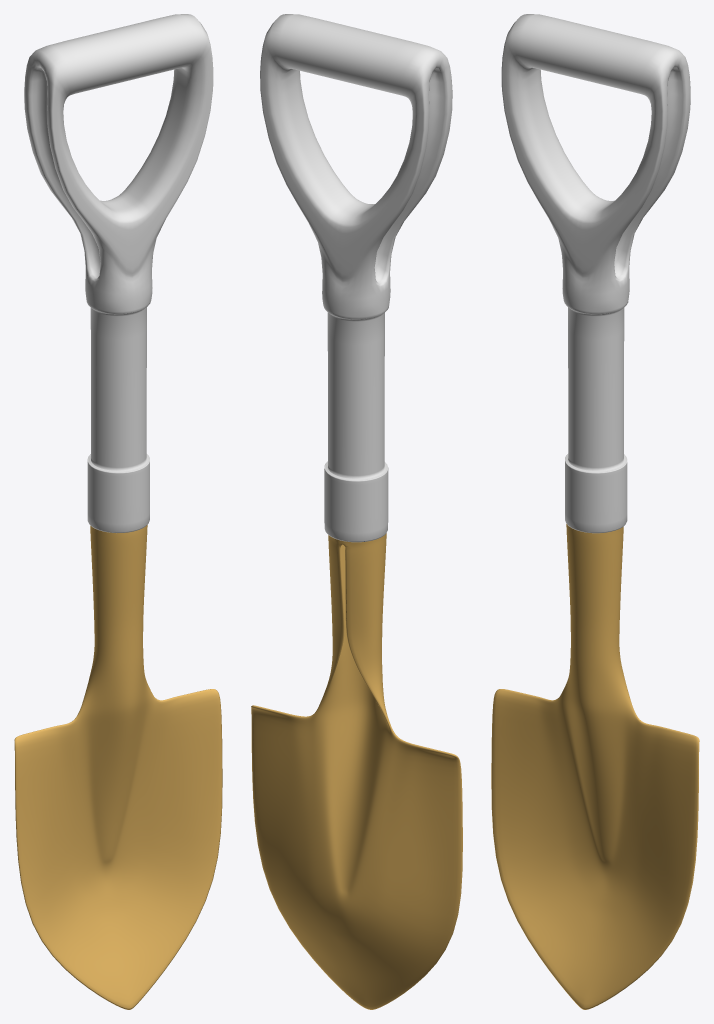
Rendered from shovel.fbx.
3 renders of one model, left to right at view 1: azimuth 30°, elevation 25°; view 2: azimuth 150°, elevation 25°; view 3: azimuth 330°, elevation 25°, orthographic.
Visible parts, largest first — view 1: Plane.031; view 2: Plane.031; view 3: Plane.031.
Part boxes in pixels (box(x1,y1,x2,y2)): Plane.031: box(14, 14, 222, 1009); Plane.031: box(251, 14, 462, 1009); Plane.031: box(491, 14, 699, 1009).
Bounding box in the file's own units: 109 × 488 × 29.08.
